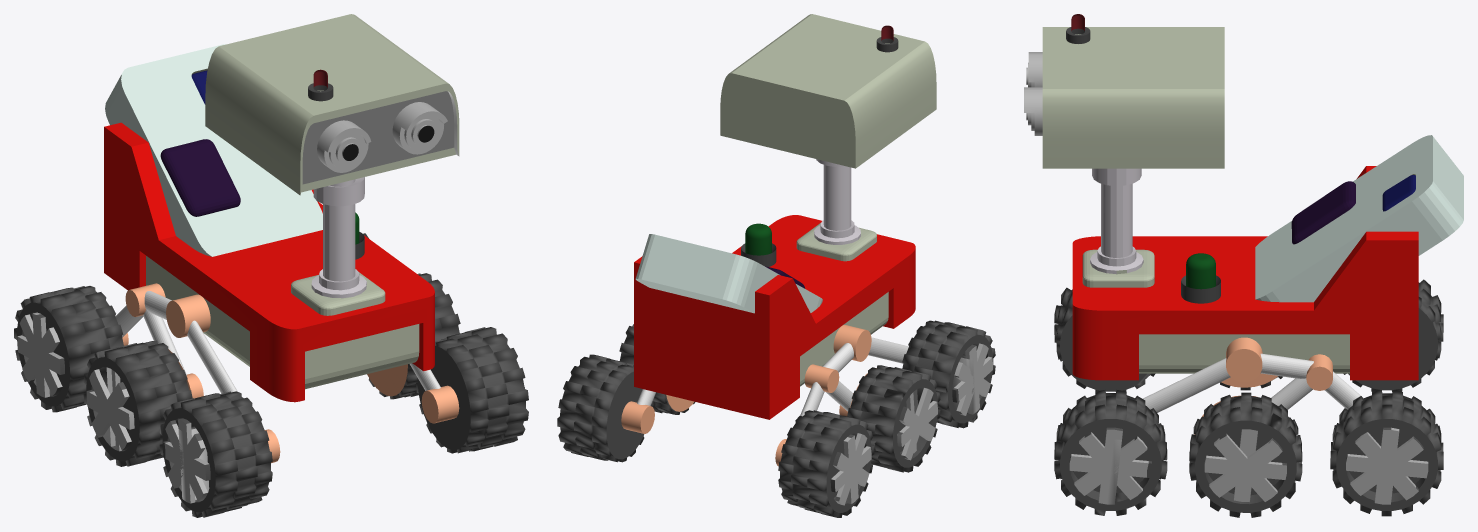
The model's file is rover3.dae.
3 views of the same model, side by side, from view 1: azimuth 30°, elevation 25°; view 2: azimuth 150°, elevation 25°; view 3: azimuth 270°, elevation 25° (orthographic). The views are drawn at different scales.
Visible parts, largest first — view 1: 1_mr_rova, 1_wheel, 3_wheel, 2_wheel, Cylinder.002, Cylinder.001; view 2: 1_mr_rova, 2_wheel, 3_wheel, 1_wheel, Cylinder.002, Cylinder.001; view 3: 1_mr_rova, 2_wheel, 1_wheel, 3_wheel, Cylinder.004, Cylinder.002.
Part boxes in pixels (bbox=[...]): 1_mr_rova: bbox=[104, 14, 459, 402]; 1_wheel: bbox=[159, 327, 528, 517]; 3_wheel: bbox=[83, 273, 460, 466]; 2_wheel: bbox=[14, 233, 368, 412]; Cylinder.002: bbox=[122, 283, 459, 463]; Cylinder.001: bbox=[115, 291, 237, 393]; 1_mr_rova: bbox=[634, 14, 936, 419]; 2_wheel: bbox=[557, 354, 874, 517]; 3_wheel: bbox=[619, 324, 940, 472]; 1_wheel: bbox=[902, 320, 995, 428]; Cylinder.002: bbox=[621, 325, 876, 466]; Cylinder.001: bbox=[800, 337, 908, 416]; 1_mr_rova: bbox=[1024, 14, 1463, 380]; 2_wheel: bbox=[1330, 279, 1443, 516]; 1_wheel: bbox=[1054, 287, 1167, 515]; 3_wheel: bbox=[1189, 376, 1302, 517]; Cylinder.004: bbox=[1142, 353, 1363, 412]; Cylinder.002: bbox=[1194, 337, 1332, 434].
Size of the model in its own units: 4.16 by 5 by 5.13.
